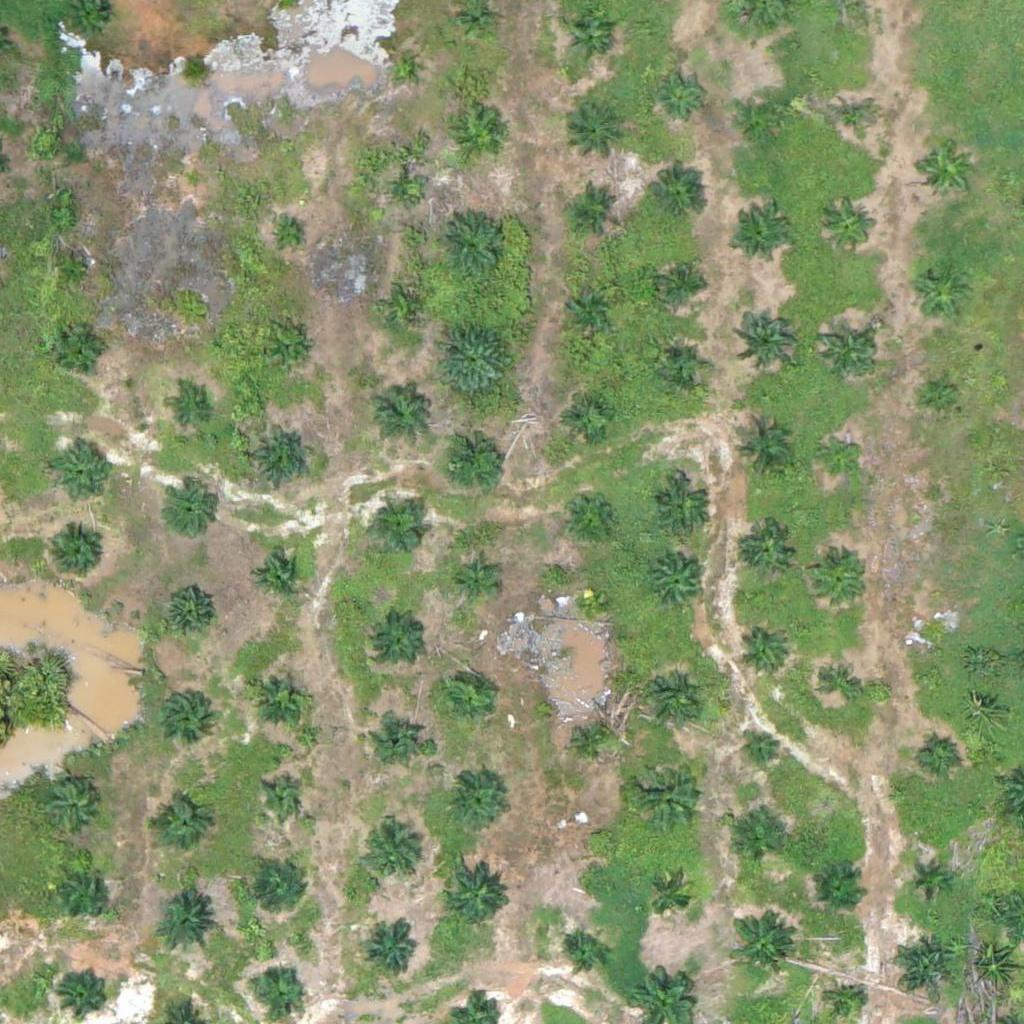Kelapa_Sawit: (433, 207, 508, 283), (437, 425, 512, 501), (632, 751, 707, 827), (437, 321, 512, 397), (892, 930, 955, 993), (366, 380, 429, 443), (908, 262, 971, 325), (651, 476, 714, 539), (154, 894, 217, 957), (251, 426, 314, 489), (567, 100, 630, 163), (915, 139, 978, 202), (646, 169, 709, 232), (730, 207, 792, 270), (728, 912, 790, 975), (445, 860, 507, 923), (363, 823, 425, 886), (643, 668, 705, 731), (731, 420, 793, 483), (818, 321, 880, 384), (734, 304, 796, 367), (442, 770, 504, 833), (45, 523, 107, 586), (249, 665, 311, 728), (49, 441, 111, 504), (648, 555, 710, 617), (824, 200, 874, 251), (252, 961, 302, 1012), (256, 862, 306, 913), (154, 799, 204, 850), (165, 485, 215, 536), (48, 784, 98, 835), (59, 867, 109, 918), (59, 965, 109, 1016), (162, 586, 212, 637), (253, 550, 303, 601), (55, 322, 105, 373), (828, 94, 878, 145), (740, 92, 790, 143), (658, 69, 708, 120), (566, 11, 616, 62), (367, 927, 417, 977), (374, 711, 424, 761), (377, 505, 427, 555), (373, 615, 423, 665), (563, 488, 613, 538), (562, 392, 612, 442), (744, 523, 794, 573), (814, 555, 864, 605), (727, 818, 777, 868), (440, 671, 490, 721), (159, 689, 209, 739), (455, 113, 505, 163), (813, 865, 863, 915), (644, 874, 694, 924), (559, 931, 609, 981), (567, 714, 617, 764), (656, 258, 706, 308), (658, 342, 708, 392), (564, 278, 614, 328), (569, 183, 619, 233), (739, 627, 789, 677), (455, 561, 493, 599), (168, 391, 206, 429), (742, 729, 780, 767), (819, 440, 857, 478), (917, 623, 955, 661), (823, 665, 861, 703), (273, 334, 310, 372), (908, 861, 945, 899), (922, 737, 960, 774), (262, 778, 299, 816), (57, 252, 94, 290), (922, 377, 959, 414), (395, 298, 420, 324), (388, 53, 413, 78), (393, 181, 418, 206), (276, 224, 301, 249), (576, 589, 601, 614), (583, 824, 608, 849), (182, 169, 207, 194)
